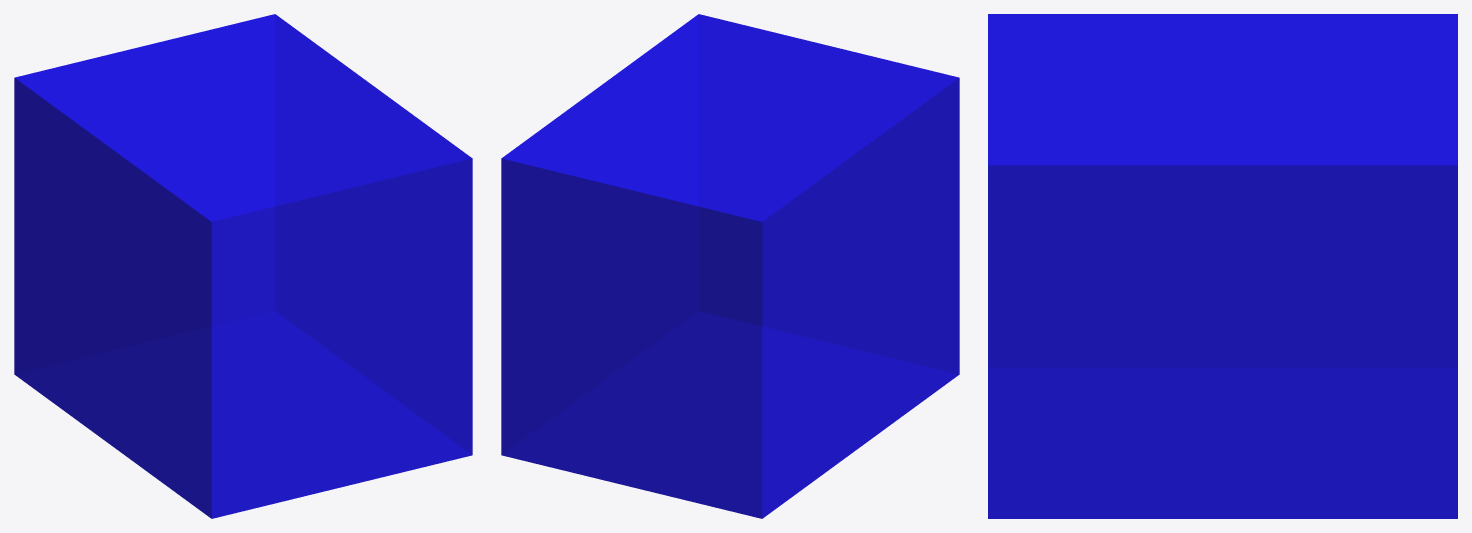
File: cooller.glb
3 views of the same model, side by side, from view 1: azimuth 30°, elevation 25°; view 2: azimuth 150°, elevation 25°; view 3: azimuth 270°, elevation 25° (orthographic). The views are drawn at different scales.
Parts seen in each view (by area): view 1: cooller; view 2: cooller; view 3: cooller.
Boxes of the visible parts, x1=… form: cooller: x1=14, y1=14, x2=472, y2=518; cooller: x1=501, y1=14, x2=959, y2=518; cooller: x1=988, y1=14, x2=1457, y2=518.
Size of the model in its own units: 0.0828 by 0.0901 by 0.1085.
